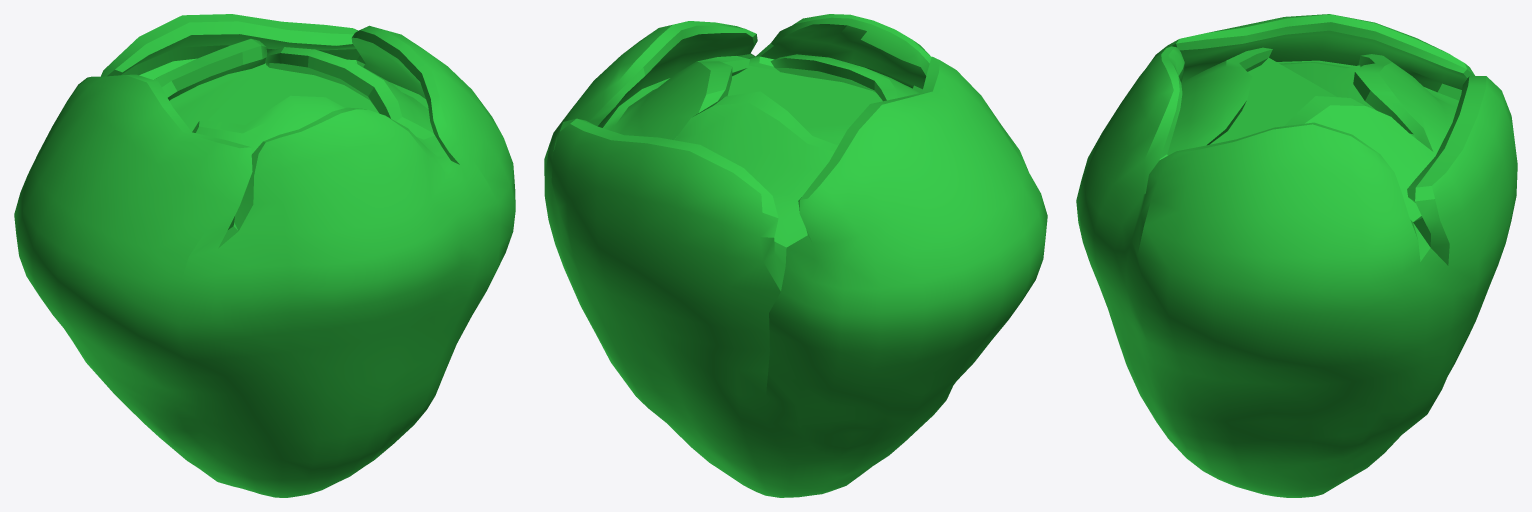
File: Lettuce_full_v2.fbx
The picture shows the model from 3 angles, left to right: view 1: azimuth 30°, elevation 25°; view 2: azimuth 150°, elevation 25°; view 3: azimuth 270°, elevation 25°; orthographic projection.
Parts seen in each view (by area): view 1: Lettuce_full; view 2: Lettuce_full; view 3: Lettuce_full.
Boxes of the visible parts, x1,y1,x2,y2 form: Lettuce_full: (14, 14, 515, 497); Lettuce_full: (544, 14, 1047, 497); Lettuce_full: (1076, 14, 1517, 497).
Size of the model in its own units: 106 by 96.2 by 90.99.
